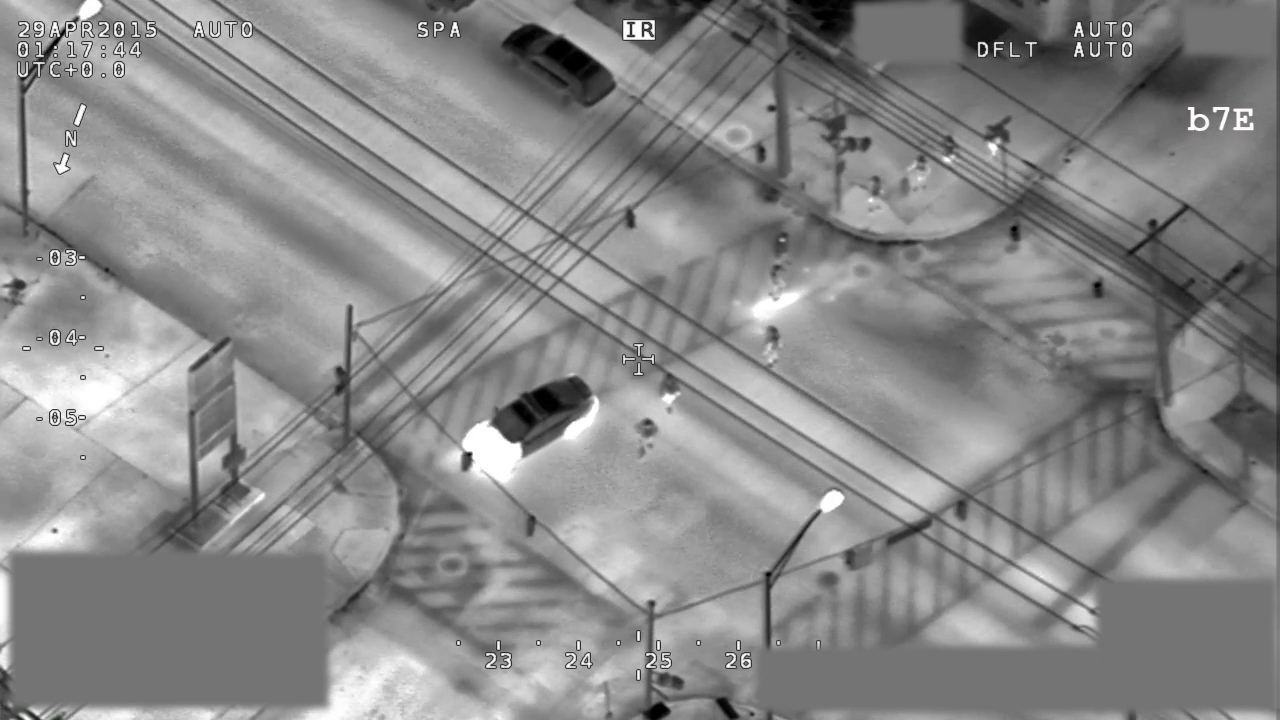vehicle: (459, 375, 597, 483), (498, 15, 618, 108)
